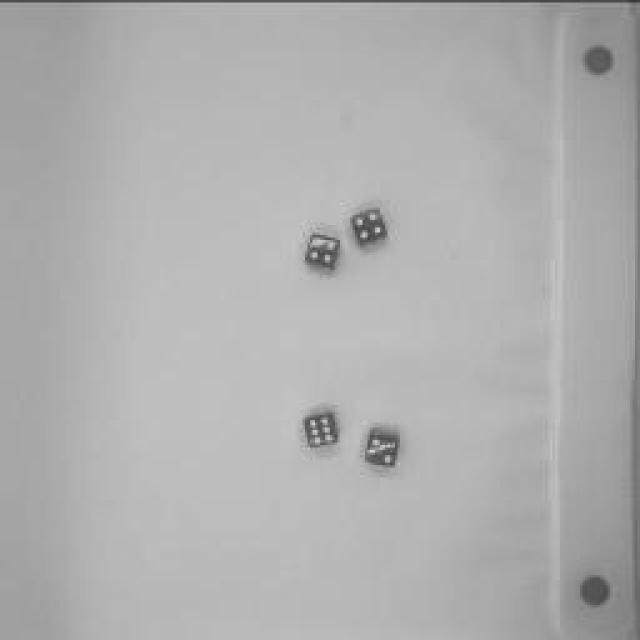dice_2: (360, 421, 405, 474)
dice_4: (300, 226, 345, 279), (346, 205, 394, 250)
dice_6: (300, 405, 345, 455)
